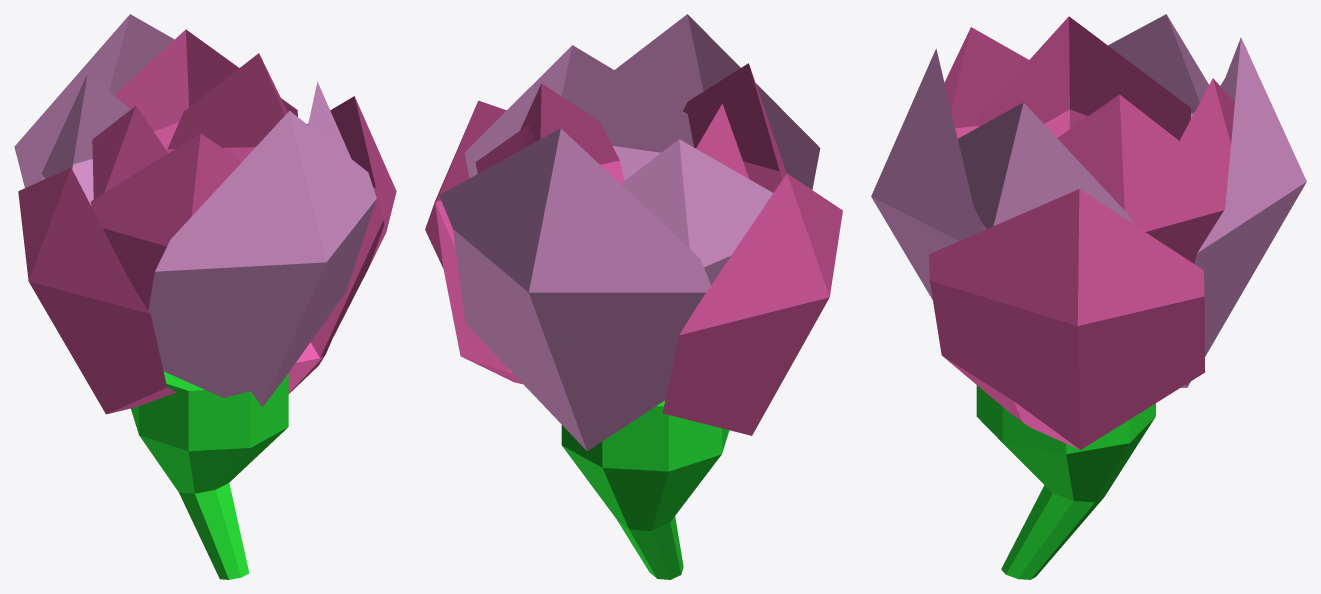
Rendered from flower6.glb.
3 renders of one model, left to right at view 1: azimuth 30°, elevation 25°; view 2: azimuth 150°, elevation 25°; view 3: azimuth 270°, elevation 25°, orthographic. The views are drawn at different scales.
Visible parts, largest first — view 1: Circle; view 2: Circle; view 3: Circle.
Boxes of the visible parts, x1,y1,x2,y2 form: Circle: (14, 14, 396, 579); Circle: (425, 14, 842, 579); Circle: (871, 14, 1306, 579).
Size of the model in its own units: 2.81 by 3.58 by 2.62.
